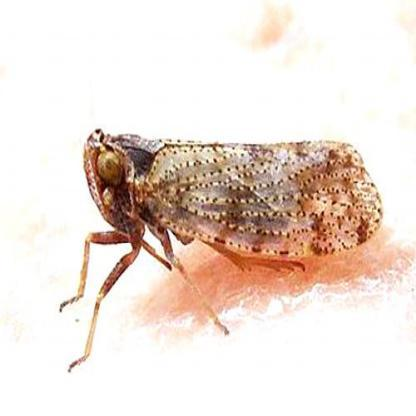brown-planthopper: (77, 119, 384, 286)
